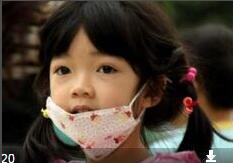WRONG: (47, 51, 131, 135)
